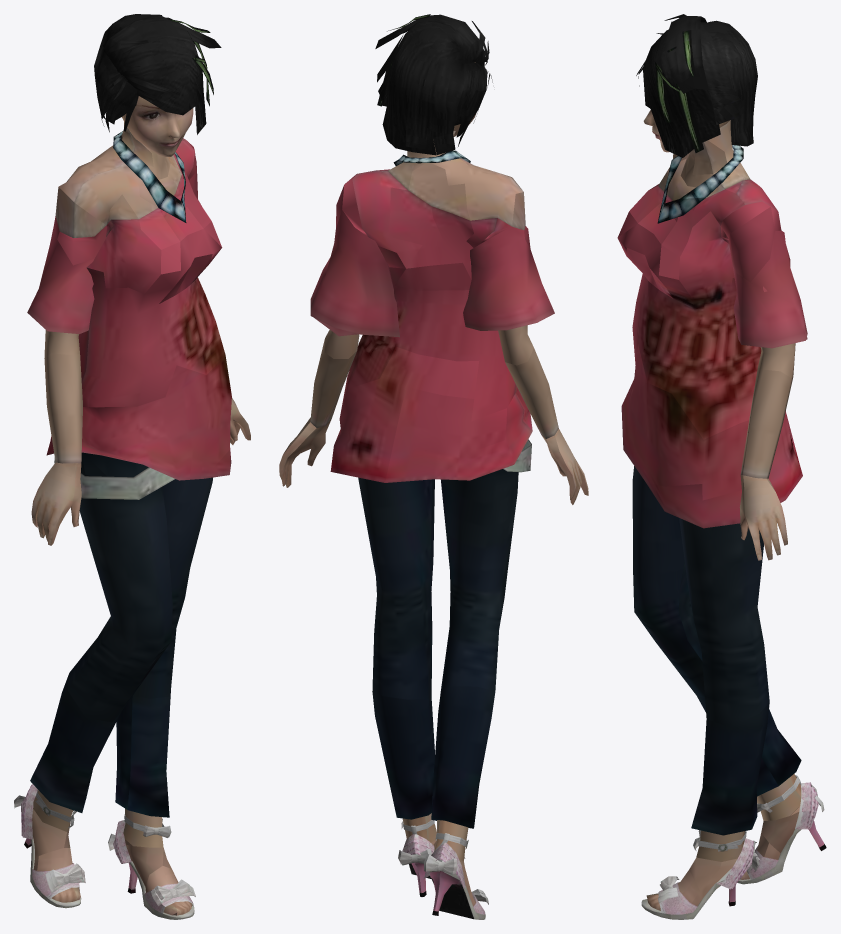
Rendered from girl.gltf.
The picture shows the model from 3 angles, left to right: view 1: azimuth 30°, elevation 25°; view 2: azimuth 150°, elevation 25°; view 3: azimuth 270°, elevation 25°; orthographic projection. The views are drawn at different scales.
Visible parts, largest first — view 1: node-0; view 2: node-0; view 3: node-0.
Part boxes in pixels (left/top/right/bottom): node-0: left=14, top=14, right=250, bottom=919; node-0: left=279, top=14, right=588, bottom=919; node-0: left=617, top=14, right=826, bottom=919.
Size of the model in its own units: 0.527 by 1.71 by 0.3672.
5 materials, 5 textured.
